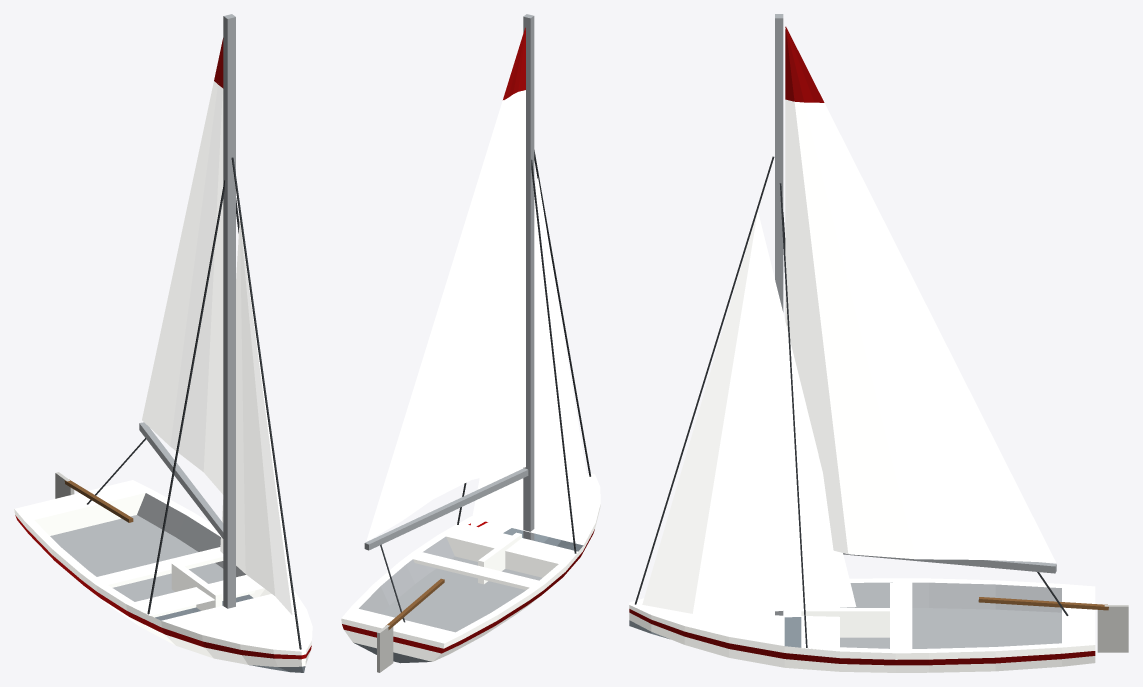
The model's file is sailboat.glb.
3 views of the same model, side by side, from view 1: azimuth 30°, elevation 25°; view 2: azimuth 150°, elevation 25°; view 3: azimuth 270°, elevation 25° (orthographic). The views are drawn at different scales.
Parts seen in each view (by area): view 1: sailboat; view 2: sailboat; view 3: sailboat.
Part boxes in pixels (x1,y1,x2,y2): sailboat: [14, 14, 312, 672]; sailboat: [341, 14, 600, 672]; sailboat: [629, 14, 1128, 672].
Bounding box in the file's own units: 1.6 × 6.36 × 4.5.
